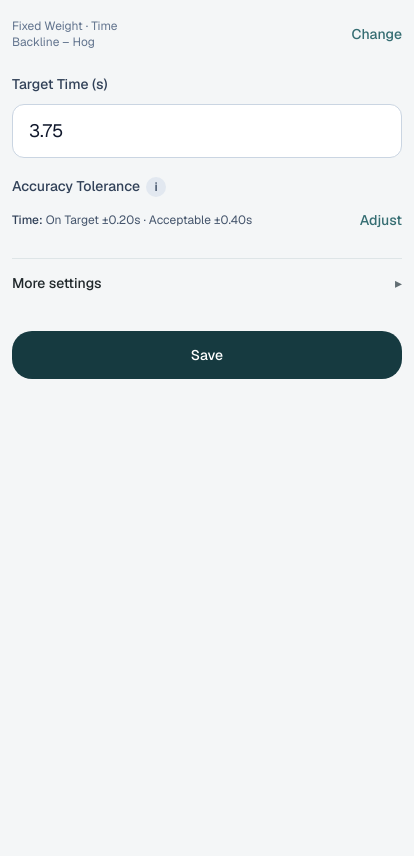
Test: TrainingSetup — Accuracy Tolerance Profiles › editing an existing block's stored thresholds is never overridden by a default profile
The image size is (414, 856).
Click the button "Change" at coordinates (377, 34), box [352,12,402,56]
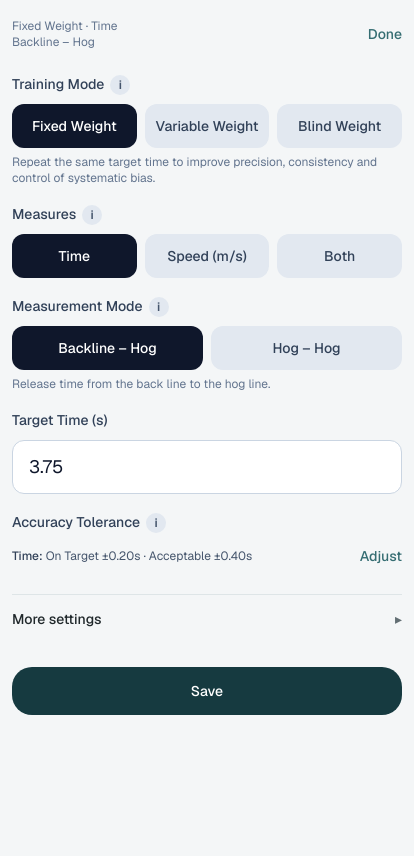
Click the button "Adjust" at coordinates (381, 556), box [360,534,402,578]
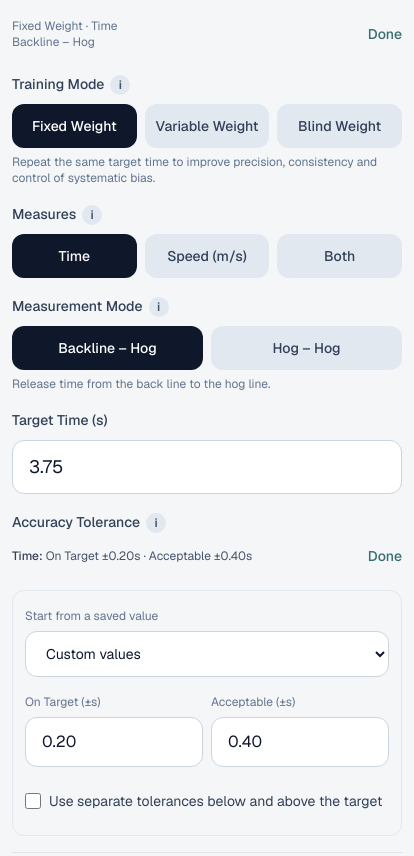
Expected: the field labelled "On Target (±s)" holds "0.20", [25,717,203,767]
Expected: the field labelled "Acceptable (±s)" holds "0.40", [211,717,389,767]
